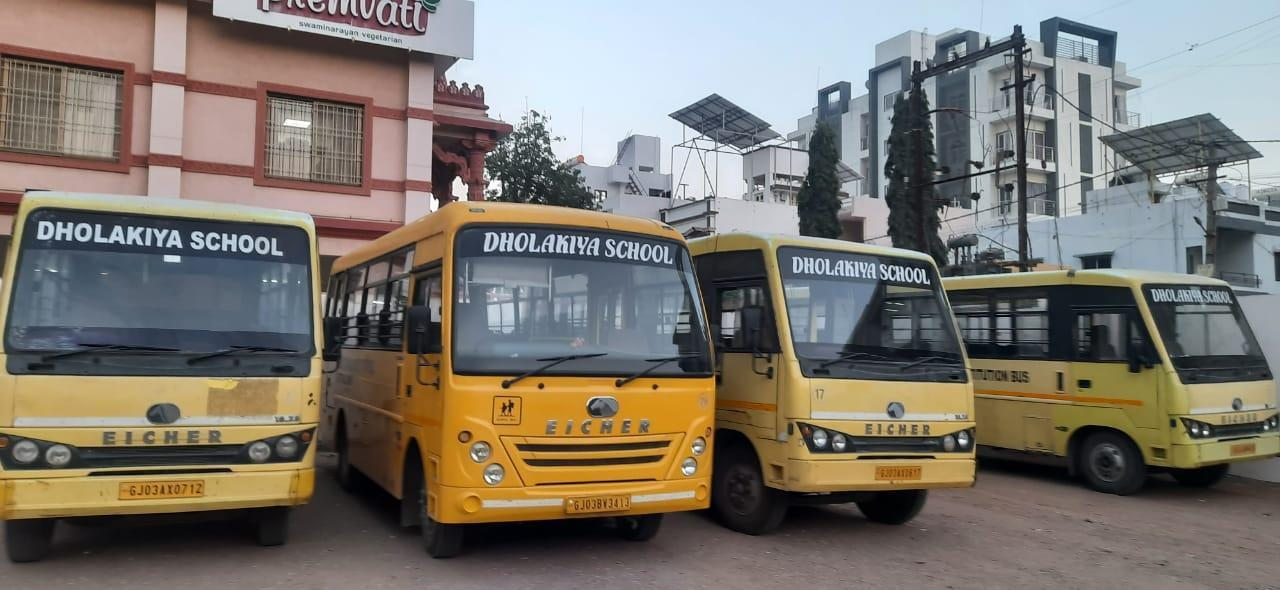Bus: (339, 199, 729, 559), (0, 184, 334, 548), (700, 219, 996, 550), (955, 246, 1275, 505)
